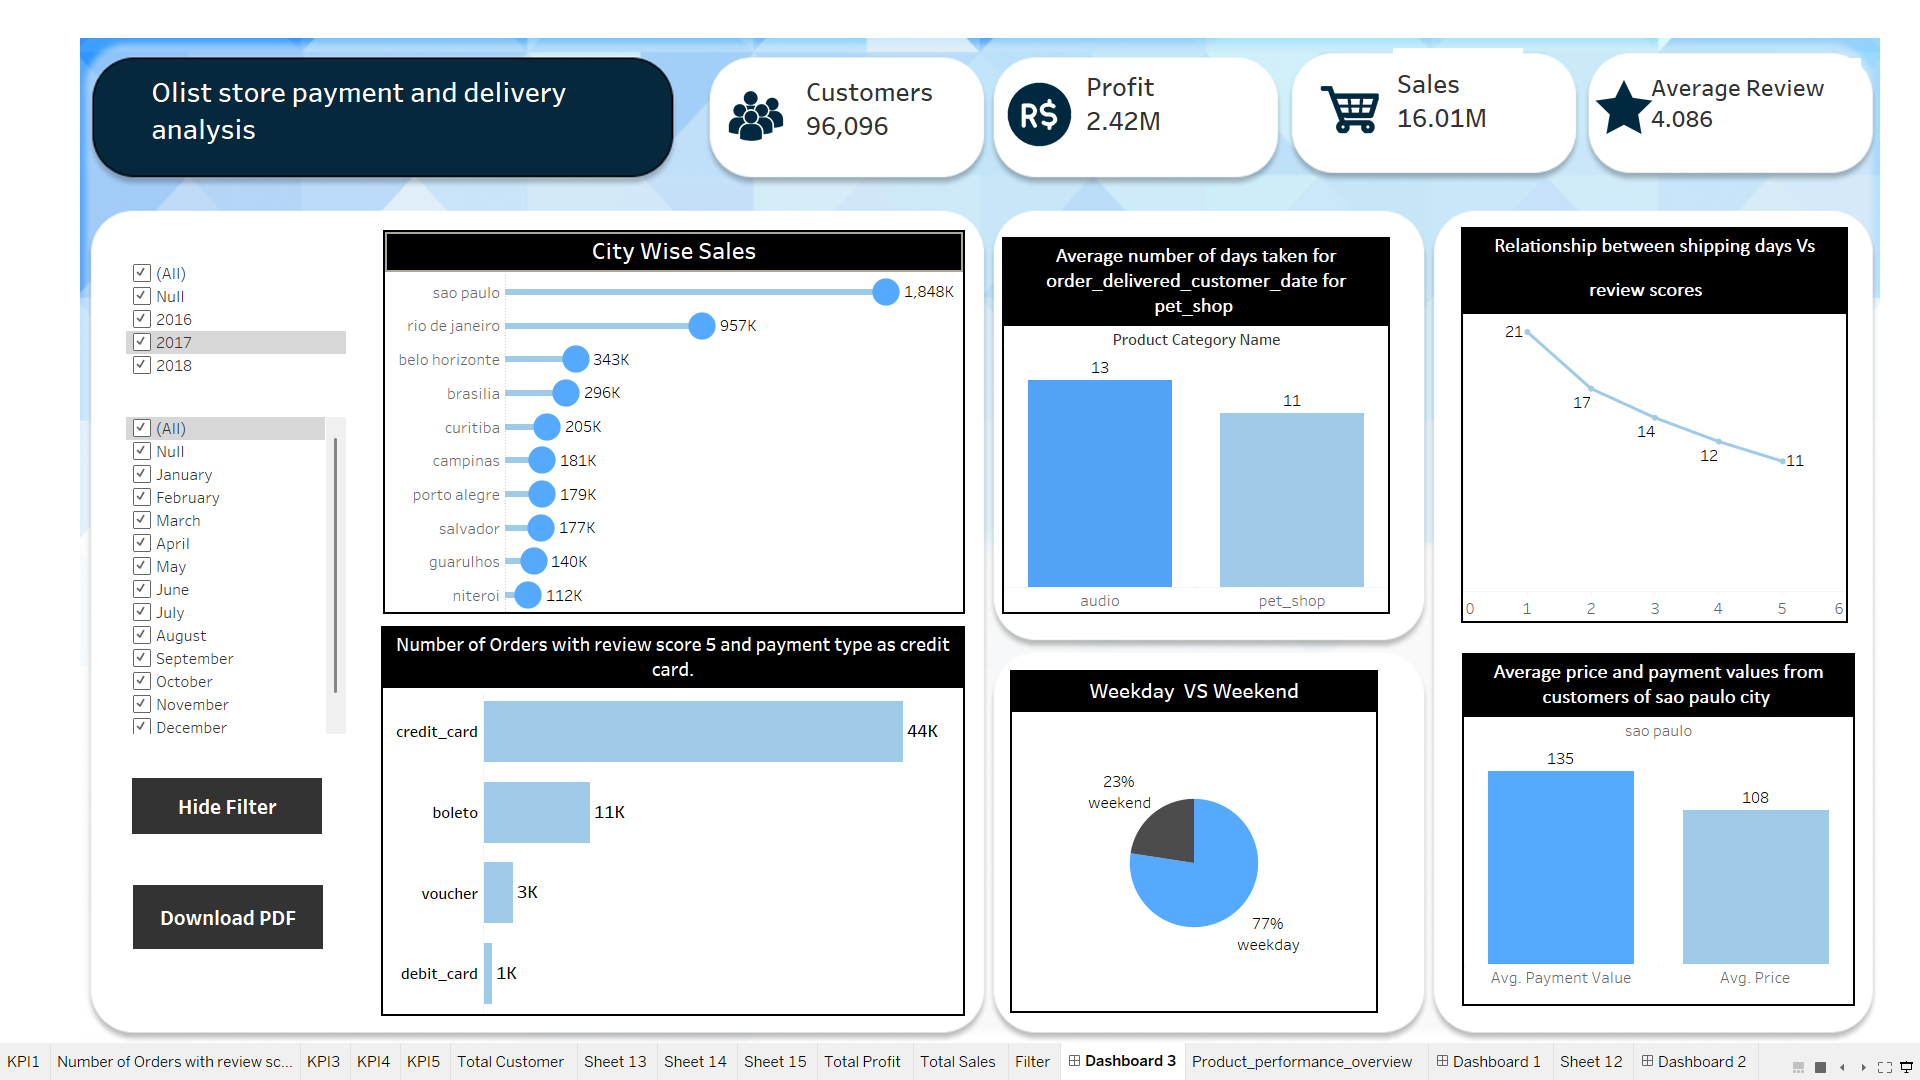

This screenshot's page, from the dashboard's own definition file:
{"tool":"tableau","page":{"name":"Olist_Dashboard","canvas":[1600,900],"ordinal":0},"visuals":[{"type":"image","param":"C:/Users/Admin/Desktop/dashboard.png","box":[8,8,1584,884]},{"type":"text","box":[72,47,409,89]},{"type":"worksheet","title":"Total Customer","mark":"Automatic","box":[661,51,122,83]},{"type":"worksheet","title":"Total Sales","mark":"Automatic","box":[1157,53,140,71]},{"type":"worksheet","title":"Average_review","mark":"Automatic","box":[1394,54,159,71]},{"type":"worksheet","title":"Total Profit","mark":"Automatic","box":[901,55,130,74]},{"type":"worksheet","title":"KPI3","mark":"Automatic","rows":["Calculation_654710829327568898"],"cols":["product_category_name"],"box":[823,194,350,321]},{"type":"worksheet","title":"City wise sales","mark":"Automatic","rows":["customer_city"],"cols":["price","price"],"box":[260,195,533,331]},{"type":"worksheet","title":"KPI5","mark":"Automatic","rows":["Calculation_654710829331845123"],"cols":["review_score"],"box":[1198,195,352,312]},{"type":"filter","title":"KPI1","param":"[federated.0pm4tjc0rynaaq18ca3q2158cj5z].[yr:order_delivered_carrier_date:ok]","box":[61,199,191,155]},{"type":"filter","title":"KPI1","param":"[federated.0pm4tjc0rynaaq18ca3q2158cj5z].[mn:order_delivered_carrier_date:ok]","box":[61,354,191,309]},{"type":"worksheet","title":"KPI4","mark":"Automatic","cols":["customer_city"],"box":[1195,528,356,320]},{"type":"worksheet","title":"KPI2","mark":"Automatic","rows":["payment_type"],"cols":["olist_order_payments_dataset.csv_852C15B4E7484CCF927EC315E54"],"box":[258,538,529,313]},{"type":"worksheet","title":"KPI1","mark":"Pie","box":[825,568,342,288]},{"type":"dashboard-object","box":[65,704,163,50]},{"type":"dashboard-object","box":[62,783,164,52]}]}

Visuals, with their boxes on the page's 1600x900 design canvas (x1, y1, x2, y2). These are canvas units, not pixel positions in the 1920x1080 screenshot, which may show the page scaled, cropped or inside an application window:
image: region(8, 8, 1592, 892)
text: region(72, 47, 481, 136)
"Total Customer" worksheet: region(661, 51, 783, 134)
"Total Sales" worksheet: region(1157, 53, 1297, 124)
"Average_review" worksheet: region(1394, 54, 1553, 125)
"Total Profit" worksheet: region(901, 55, 1031, 129)
"KPI3" worksheet: region(823, 194, 1173, 515)
"City wise sales" worksheet: region(260, 195, 793, 526)
"KPI5" worksheet: region(1198, 195, 1550, 507)
"KPI1" filter: region(61, 199, 252, 354)
"KPI1" filter: region(61, 354, 252, 663)
"KPI4" worksheet: region(1195, 528, 1551, 848)
"KPI2" worksheet: region(258, 538, 787, 851)
"KPI1" worksheet (Pie marks): region(825, 568, 1167, 856)
dashboard-object: region(65, 704, 228, 754)
dashboard-object: region(62, 783, 226, 835)
